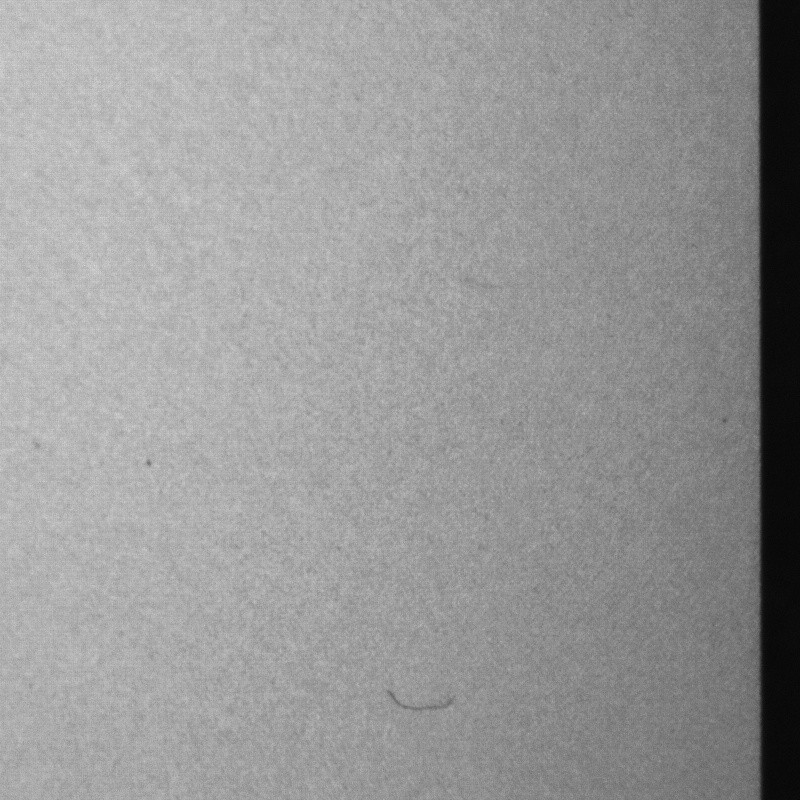defect: (383, 677, 466, 715), (460, 268, 519, 295), (139, 454, 161, 468)
